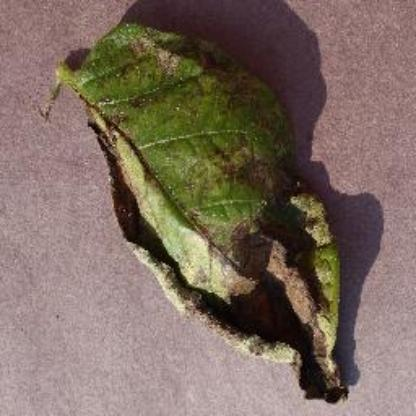Late-Blight: (40, 14, 364, 406)
